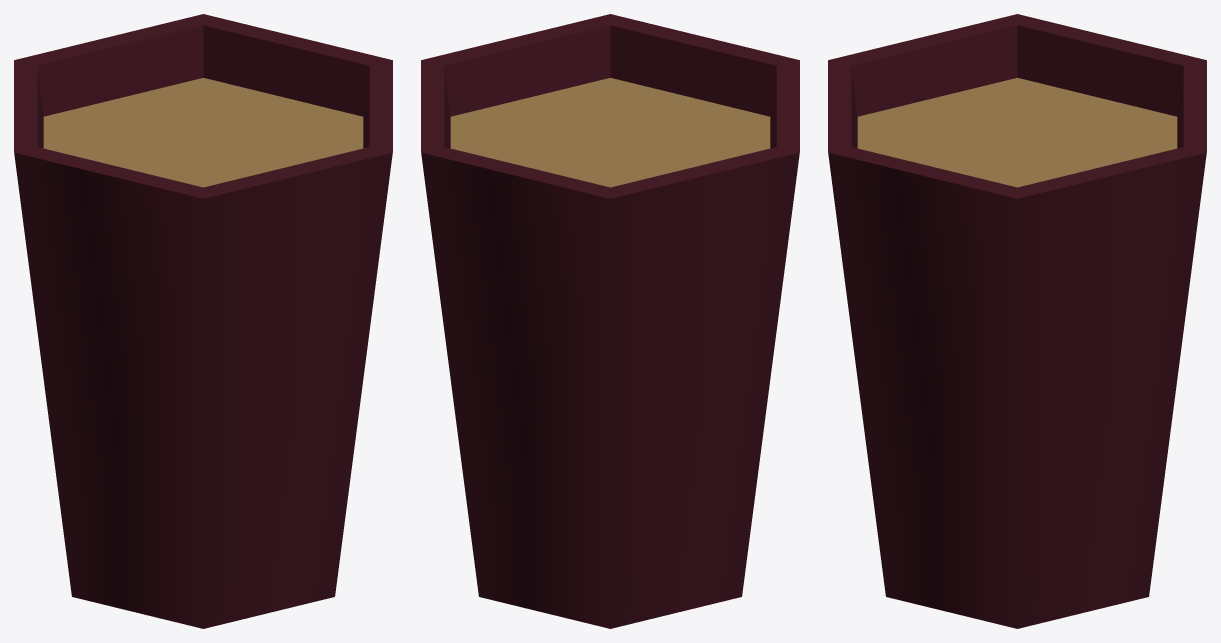
Rendered from Itr_Obj_Flowerpot2_Base_04.FBX.
3 renders of one model, left to right at view 1: azimuth 30°, elevation 25°; view 2: azimuth 150°, elevation 25°; view 3: azimuth 270°, elevation 25°, orthographic.
Parts seen in each view (by area): view 1: Itr_Obj_Flowerpot2_Base_04; view 2: Itr_Obj_Flowerpot2_Base_04; view 3: Itr_Obj_Flowerpot2_Base_04.
Boxes of the visible parts, <box> form: Itr_Obj_Flowerpot2_Base_04: <box>14,14,392,628</box>; Itr_Obj_Flowerpot2_Base_04: <box>421,14,799,628</box>; Itr_Obj_Flowerpot2_Base_04: <box>828,14,1206,628</box>.
Size of the model in its own units: 24 by 27.76 by 20.78.
